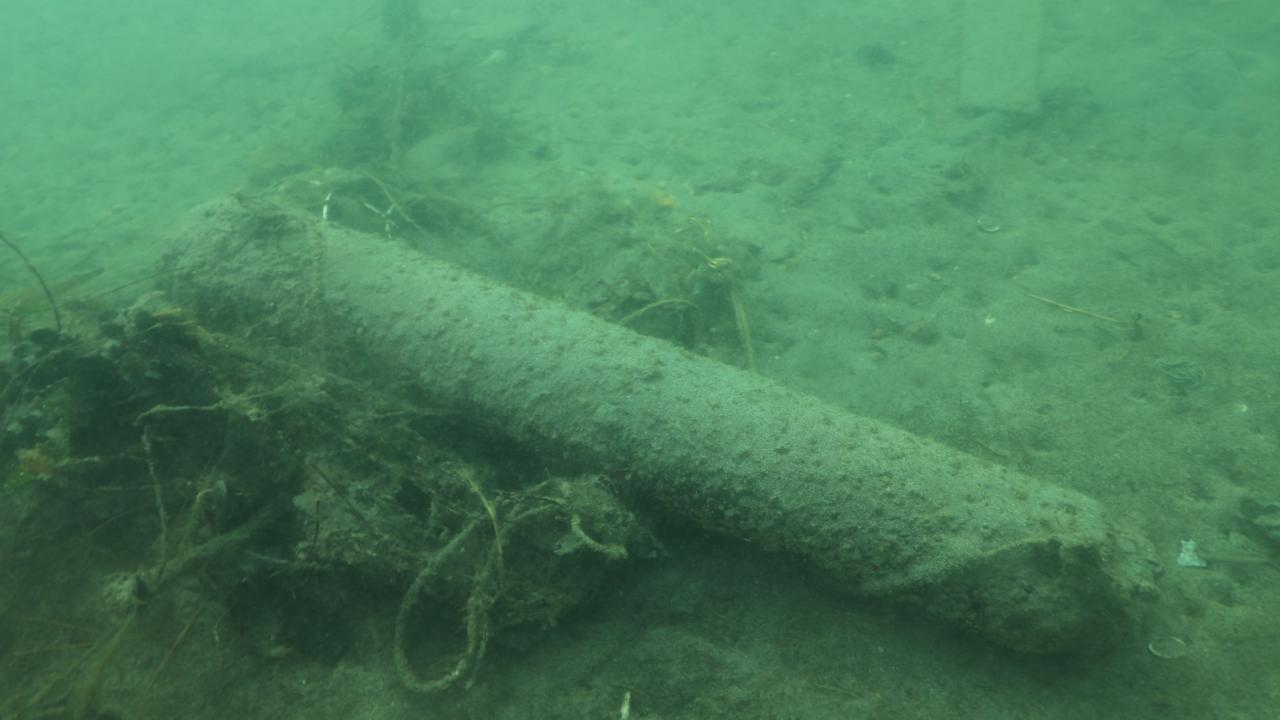eel fish trap: (145, 187, 1165, 660)
